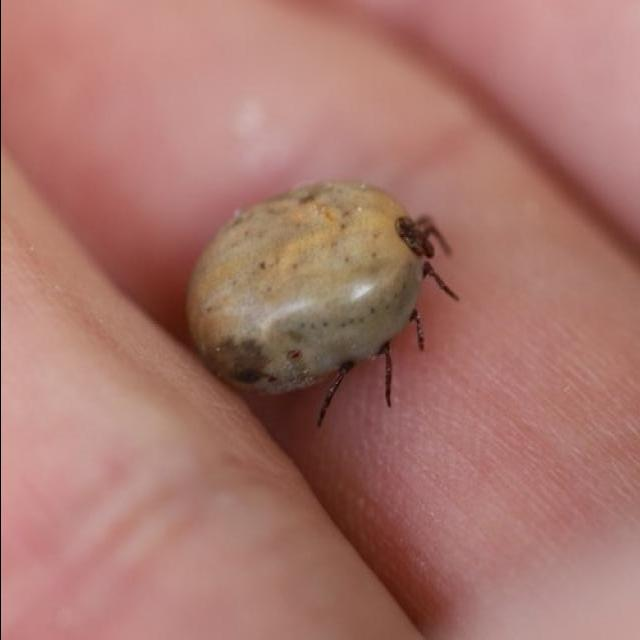Dermacentor Reticulatus-F-Fed: (180, 179, 457, 428)
